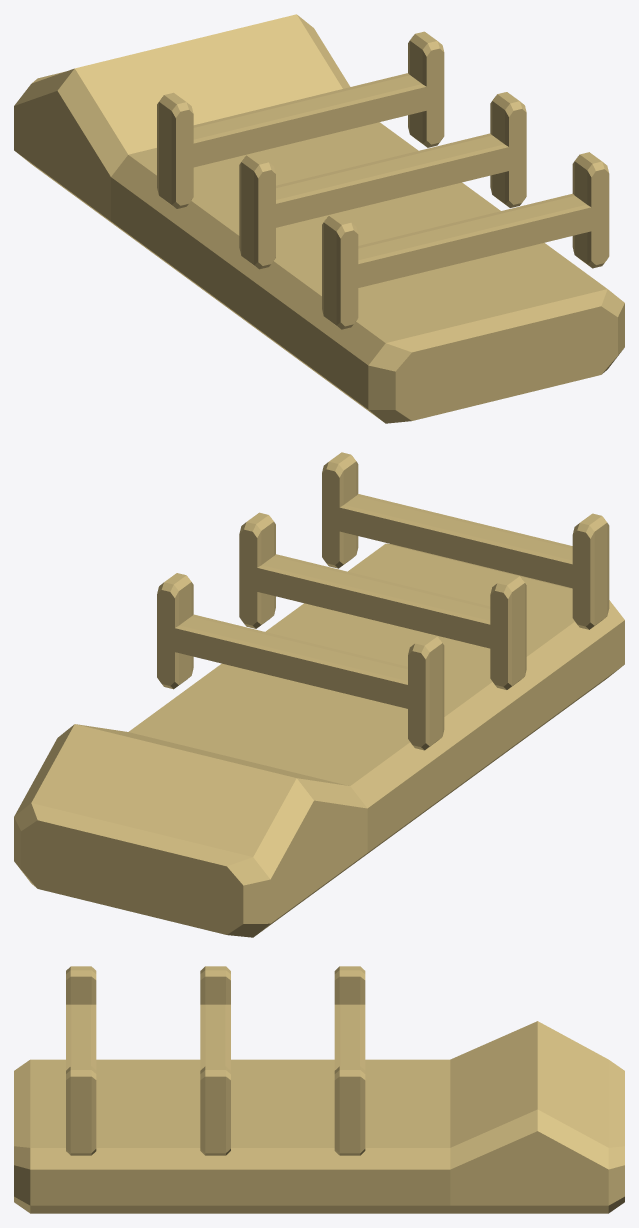
Rendered from tallow_transport_c.glb.
3 renders of one model, top to bottom at view 1: azimuth 30°, elevation 25°; view 2: azimuth 150°, elevation 25°; view 3: azimuth 270°, elevation 25°, orthographic. The views are drawn at different scales.
Parts seen in each view (by area): view 1: tallow_transport_c; view 2: tallow_transport_c; view 3: tallow_transport_c.
Boxes of the visible parts, x1=… form: tallow_transport_c: x1=14, y1=14, x2=624, y2=423; tallow_transport_c: x1=14, y1=452, x2=624, y2=937; tallow_transport_c: x1=14, y1=966, x2=624, y2=1213.
Size of the model in its own units: 3.8 by 2.48 by 9.1.
